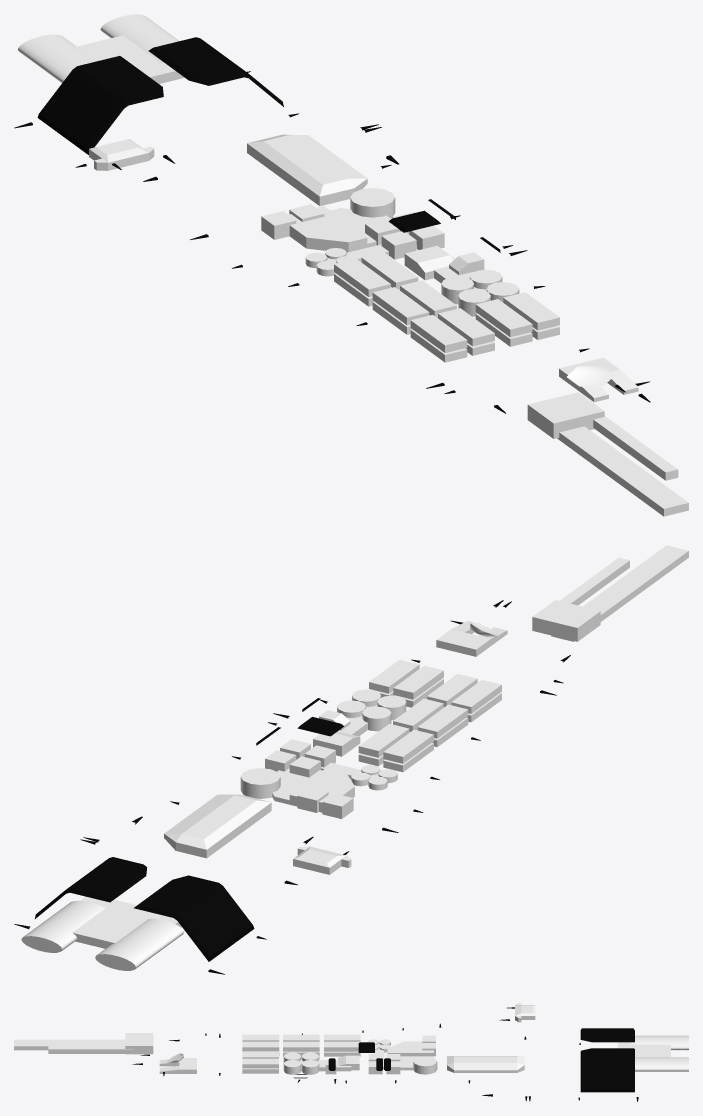
File: hgn_fs_expe_01.glb
3 views of the same model, one above another, from view 1: azimuth 30°, elevation 25°; view 2: azimuth 150°, elevation 25°; view 3: azimuth 270°, elevation 25° (orthographic). The views are drawn at different scales.
Parts seen in each view (by area): view 1: hgn_fs_expe_01_t1_LOD0, Factory_1_3 (1)!!!!!!!!, StandardScanner_1_1, StandardEngine_1_3 (3), FleetReadyHangar_1_2, Refinery_1_2 (1), Storage_1_1 (6), Storage_1_1 (7), Storage_1_1 (1), Storage_1_1 (5), Market_1_1, Bridge_1_1 (1); view 2: hgn_fs_expe_01_t1_LOD0, StandardEngine_1_3 (3), Factory_1_3 (1)!!!!!!!!, StandardScanner_1_1, FleetReadyHangar_1_2, Refinery_1_2 (1), Storage_1_1 (1), Storage_1_1 (7), Storage_1_1 (5), Storage_1_1 (6), Market_1_1, Bridge_1_1 (1); view 3: hgn_fs_expe_01_t1_LOD0, StandardScanner_1_1, Factory_1_3 (1)!!!!!!!!, StandardEngine_1_3 (3), Refinery_1_2 (1), FleetReadyHangar_1_2, Storage_1_1 (7), Storage_1_1 (1), Storage_1_1 (5), Storage_1_1 (6), Market_1_1, Bridge_1_1 (1).
Part boxes in pixels (bbox=[...]): hgn_fs_expe_01_t1_LOD0: bbox=[14, 37, 650, 413]; Factory_1_3 (1)!!!!!!!!: bbox=[261, 188, 444, 276]; StandardScanner_1_1: bbox=[527, 392, 688, 516]; StandardEngine_1_3 (3): bbox=[18, 14, 184, 83]; FleetReadyHangar_1_2: bbox=[247, 134, 367, 206]; Refinery_1_2 (1): bbox=[404, 245, 519, 316]; Storage_1_1 (6): bbox=[410, 308, 494, 362]; Storage_1_1 (7): bbox=[475, 292, 559, 346]; Storage_1_1 (1): bbox=[334, 252, 418, 306]; Storage_1_1 (5): bbox=[372, 280, 456, 334]; Market_1_1: bbox=[559, 357, 638, 402]; Bridge_1_1 (1): bbox=[89, 139, 154, 170]; hgn_fs_expe_01_t1_LOD0: bbox=[14, 600, 570, 974]; StandardEngine_1_3 (3): bbox=[21, 896, 184, 970]; Factory_1_3 (1)!!!!!!!!: bbox=[240, 739, 397, 818]; StandardScanner_1_1: bbox=[532, 545, 688, 641]; FleetReadyHangar_1_2: bbox=[164, 794, 271, 858]; Refinery_1_2 (1): bbox=[313, 689, 406, 756]; Storage_1_1 (1): bbox=[358, 723, 433, 772]; Storage_1_1 (7): bbox=[369, 659, 443, 707]; Storage_1_1 (5): bbox=[393, 698, 468, 747]; Storage_1_1 (6): bbox=[427, 674, 501, 722]; Market_1_1: bbox=[436, 620, 507, 656]; Bridge_1_1 (1): bbox=[293, 846, 351, 874]; hgn_fs_expe_01_t1_LOD0: bbox=[132, 1007, 638, 1101]; StandardScanner_1_1: bbox=[14, 1033, 153, 1054]; Factory_1_3 (1)!!!!!!!!: bbox=[367, 1035, 437, 1074]; StandardEngine_1_3 (3): bbox=[618, 1035, 688, 1071]; Refinery_1_2 (1): bbox=[283, 1052, 359, 1074]; FleetReadyHangar_1_2: bbox=[447, 1056, 524, 1072]; Storage_1_1 (7): bbox=[242, 1051, 278, 1073]; Storage_1_1 (1): bbox=[324, 1034, 360, 1056]; Storage_1_1 (5): bbox=[283, 1034, 319, 1056]; Storage_1_1 (6): bbox=[242, 1034, 279, 1056]; Market_1_1: bbox=[159, 1053, 196, 1073]; Bridge_1_1 (1): bbox=[515, 1003, 535, 1022].
Size of what is drawn, in the model's own units: 3.73 by 0.7465 by 13.98.
4 materials, 1 textured.
